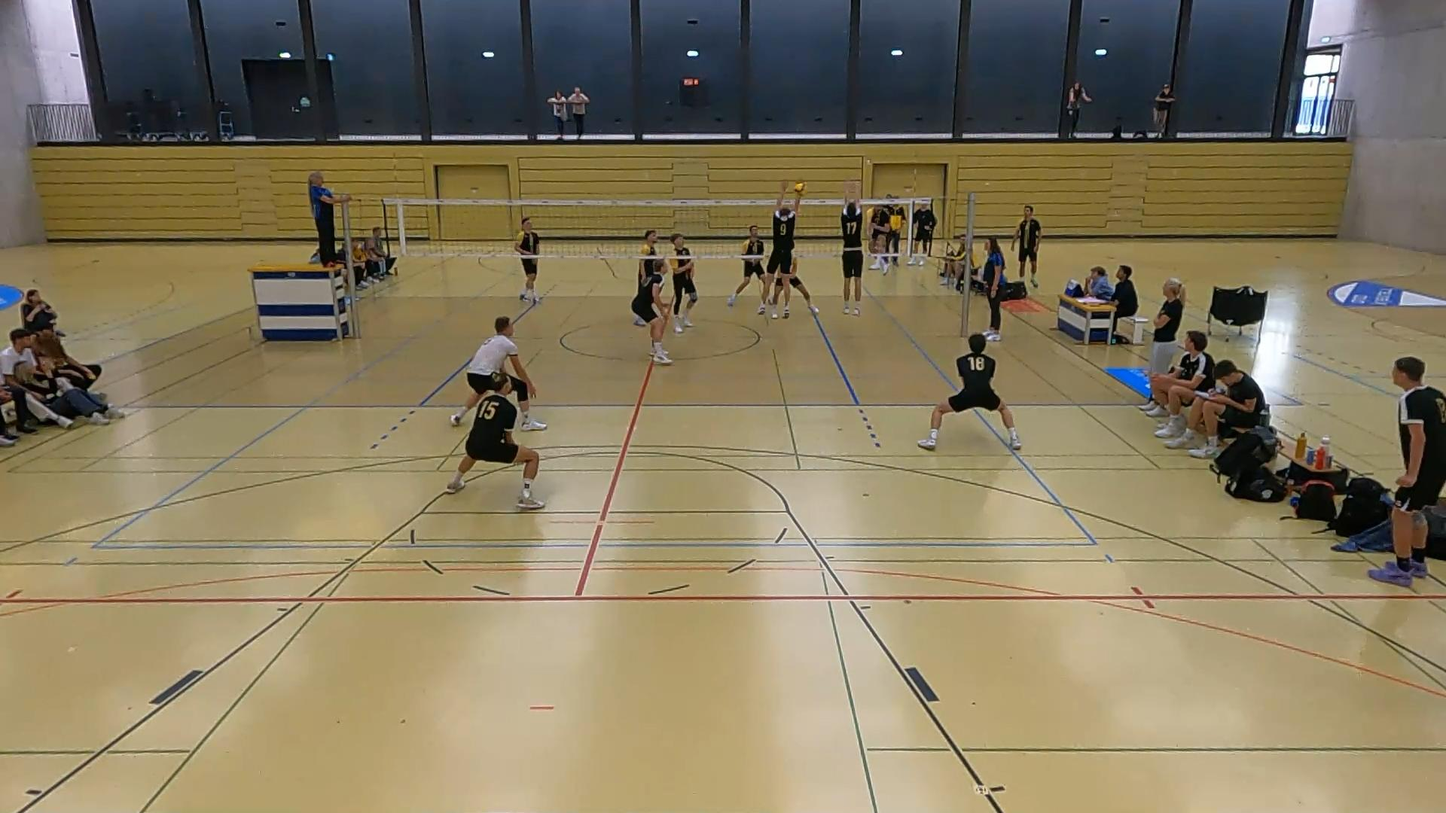Attack: (862, 194, 896, 279)
Block: (762, 182, 823, 324), (835, 177, 870, 325)
Player: (445, 373, 544, 510), (918, 333, 1021, 450), (450, 315, 546, 431), (631, 230, 671, 364), (728, 226, 768, 314), (772, 257, 819, 318), (670, 233, 697, 333), (514, 217, 539, 303), (637, 230, 661, 285)
ball: (792, 178, 808, 197)
